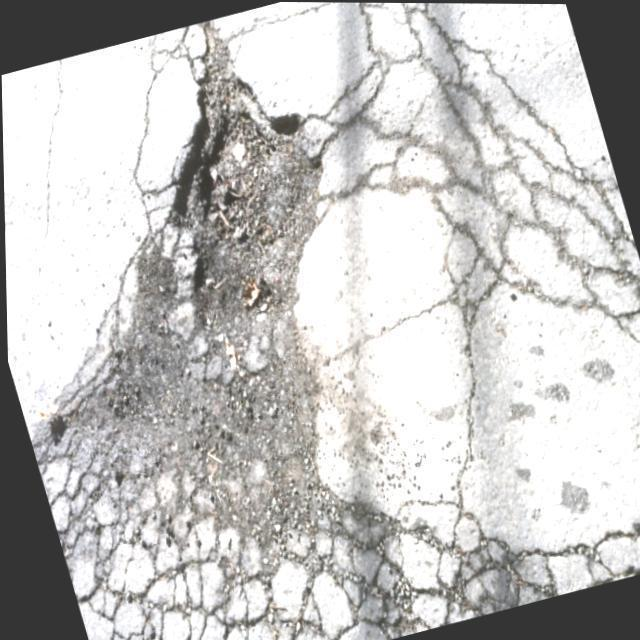Pothole: (35, 31, 315, 530)
